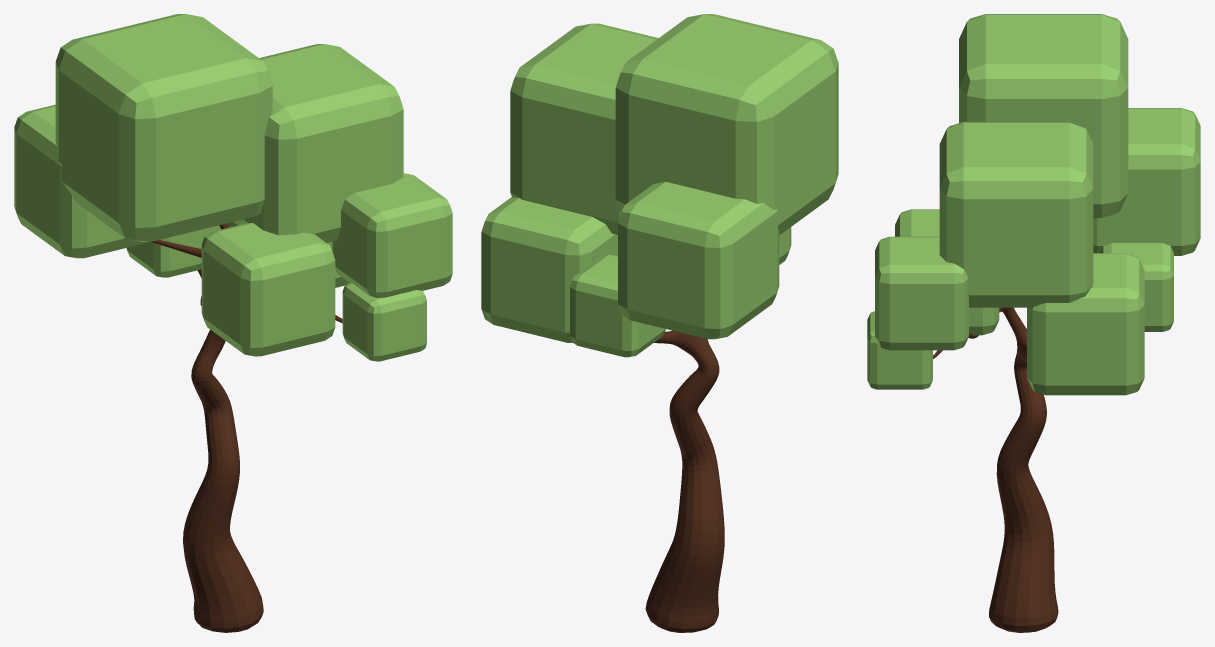
File: arbolHojas1 1.fbx
The picture shows the model from 3 angles, left to right: view 1: azimuth 30°, elevation 25°; view 2: azimuth 150°, elevation 25°; view 3: azimuth 270°, elevation 25°; orthographic projection. The views are drawn at different scales.
Parts seen in each view (by area): view 1: Cube.5555, Cube.5554, Cube.5556, Cube.5542, Cube.5552, Cube.5557, Cube.5553, Cube.5560; view 2: Cube.5555, Cube.5557, Cube.5554, Cube.5559, Cube.5542, Cube.5560; view 3: Cube.5554, Cube.5555, Cube.5559, Cube.5542, Cube.5557, Cube.5552, Cube.5560, Cube.5553, Cube.5556.
Part boxes in pixels (box(x1,y1,x2,y2)): Cube.5555: box(55, 14, 272, 241); Cube.5554: box(233, 44, 403, 242); Cube.5556: box(201, 223, 335, 356); Cube.5542: box(150, 223, 342, 632); Cube.5552: box(332, 173, 452, 297); Cube.5557: box(14, 104, 149, 258); Cube.5553: box(342, 283, 426, 361); Cube.5560: box(126, 225, 220, 277); Cube.5555: box(615, 14, 838, 235); Cube.5557: box(618, 181, 779, 339); Cube.5554: box(510, 23, 658, 234); Cube.5559: box(481, 197, 617, 342); Cube.5542: box(645, 330, 724, 632); Cube.5560: box(570, 255, 665, 357); Cube.5554: box(939, 122, 1093, 307); Cube.5555: box(959, 14, 1128, 217); Cube.5559: box(1027, 253, 1144, 395); Cube.5542: box(933, 307, 1058, 632); Cube.5557: box(1093, 108, 1200, 255); Cube.5552: box(875, 236, 968, 350); Cube.5560: box(1100, 243, 1173, 331); Cube.5553: box(867, 311, 932, 389); Cube.5556: box(895, 209, 999, 335).
Bounding box in the file's own units: 2083 × 4071 × 2192.
